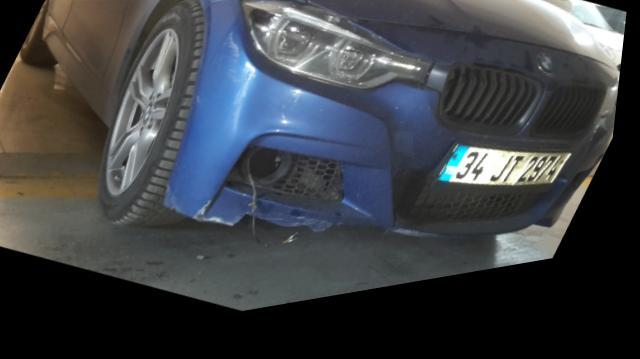no part: (240, 224, 394, 251), (252, 158, 287, 192)
scratch: (196, 208, 352, 245), (214, 39, 259, 92), (199, 103, 205, 110)
